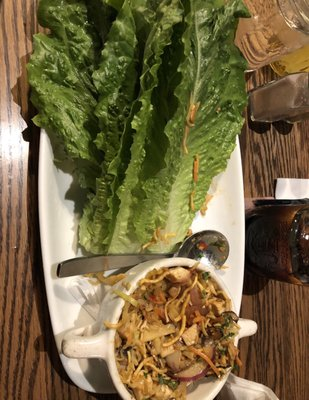curry: (26, 0, 254, 257)
salad: (57, 230, 235, 282)
